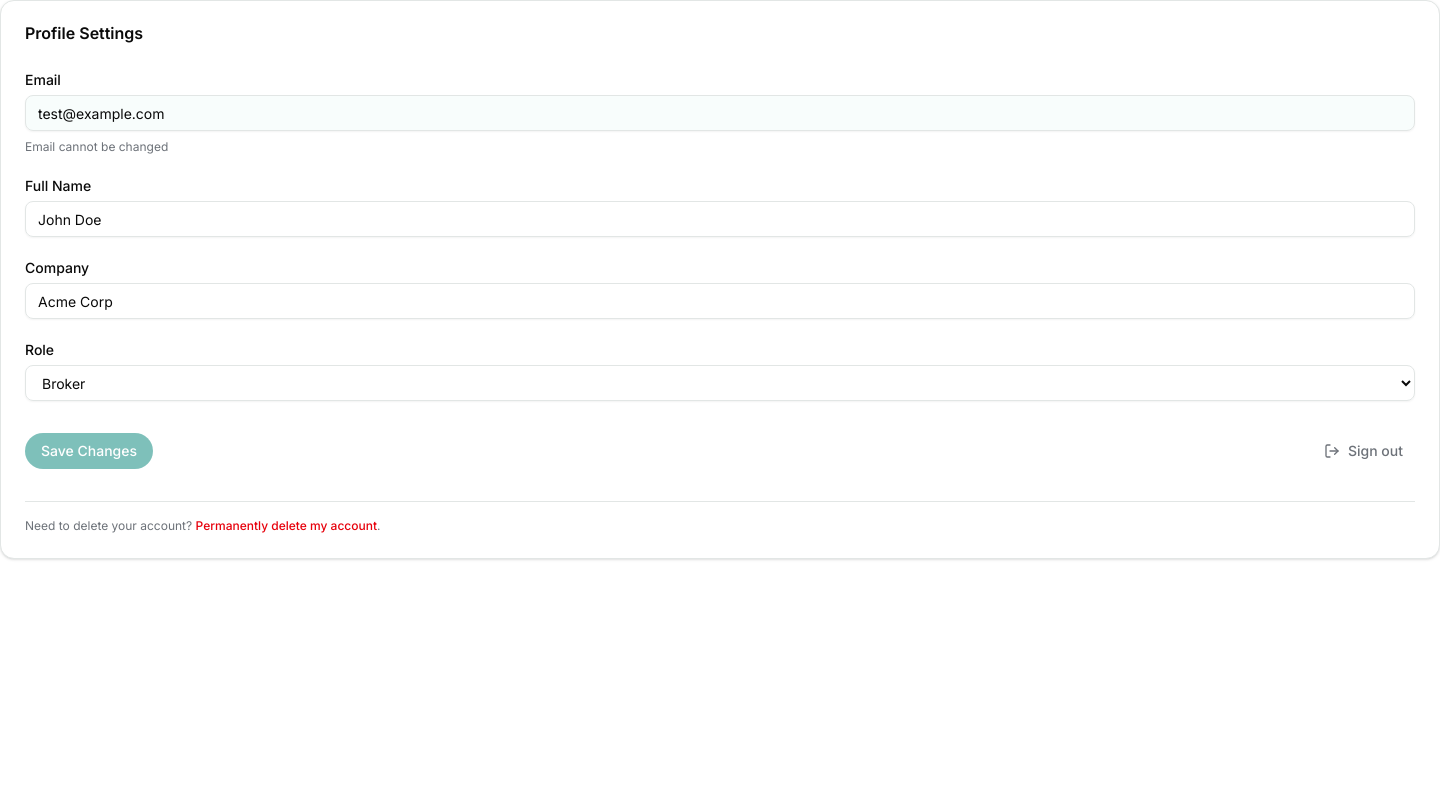
Test case: ProfileForm › shows validation error for empty name
Clear the field labelled "Full Name": (720, 219) [25,201,1415,237]
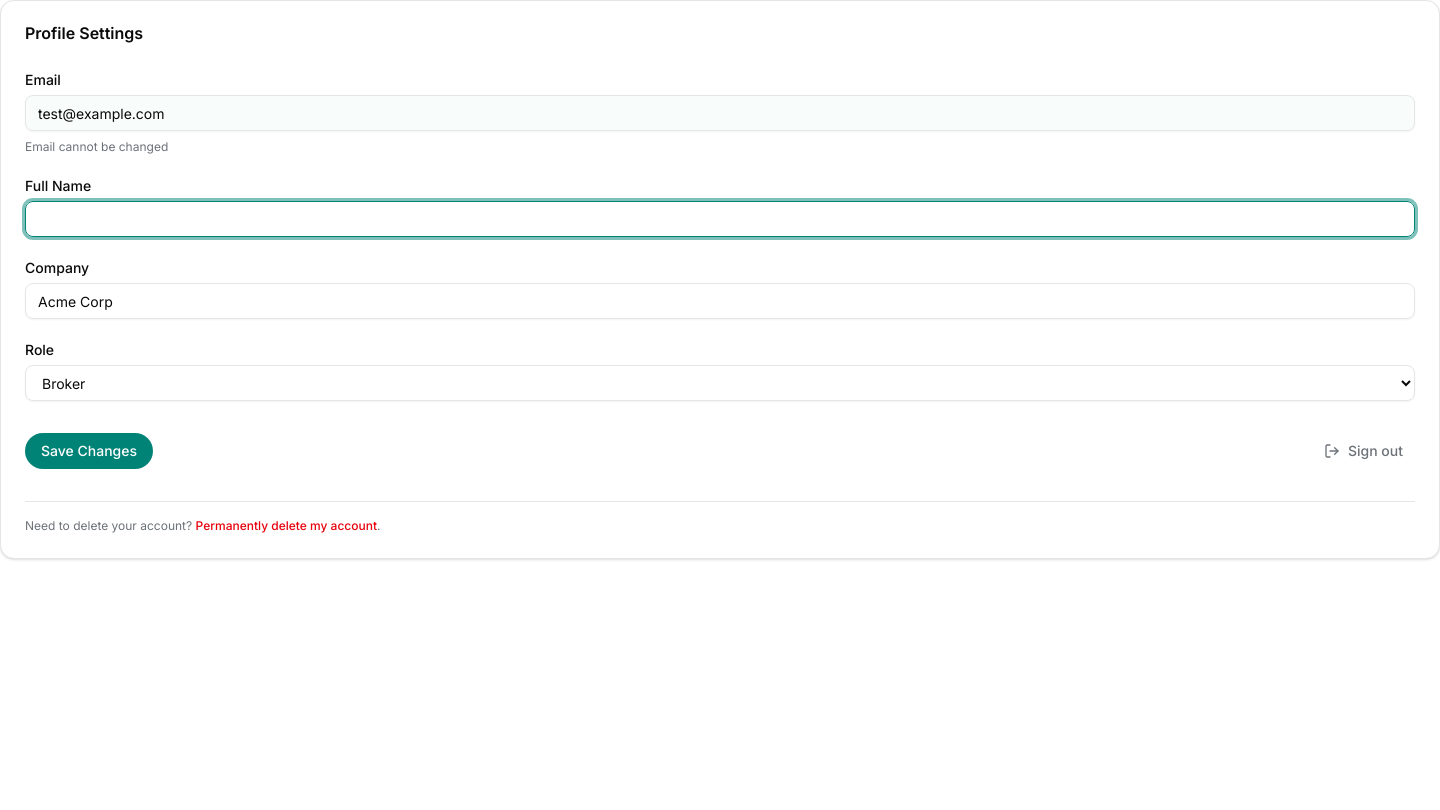
Click the button "Save Changes": (89, 451) [25,433,153,469]
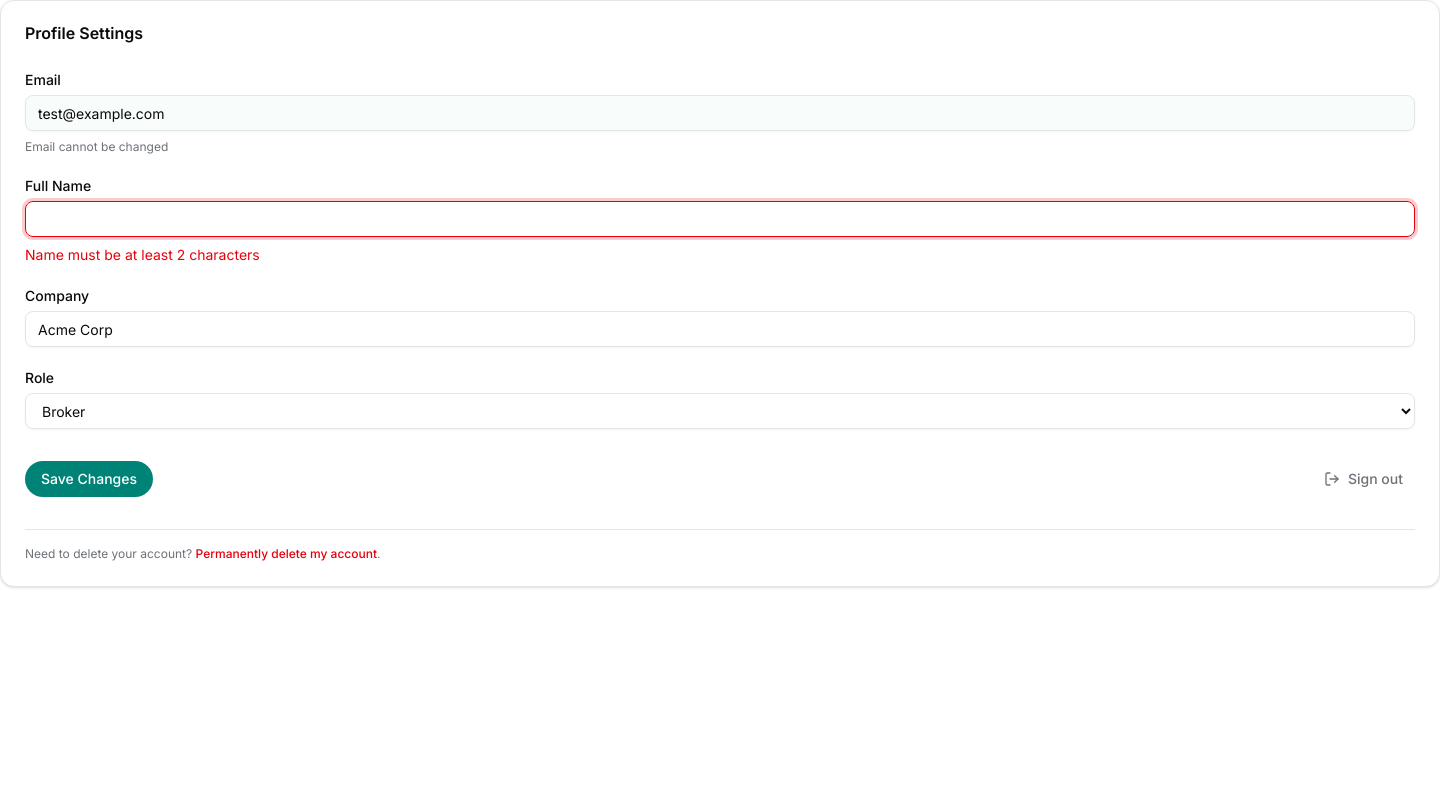
Check: the message "Name must be at least 2 characters" is shown, box [25,246,260,263]
